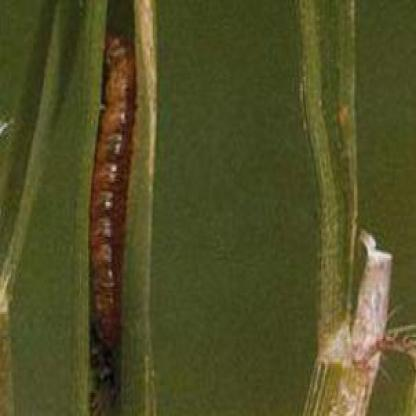leaf-folder: (84, 29, 142, 395)
